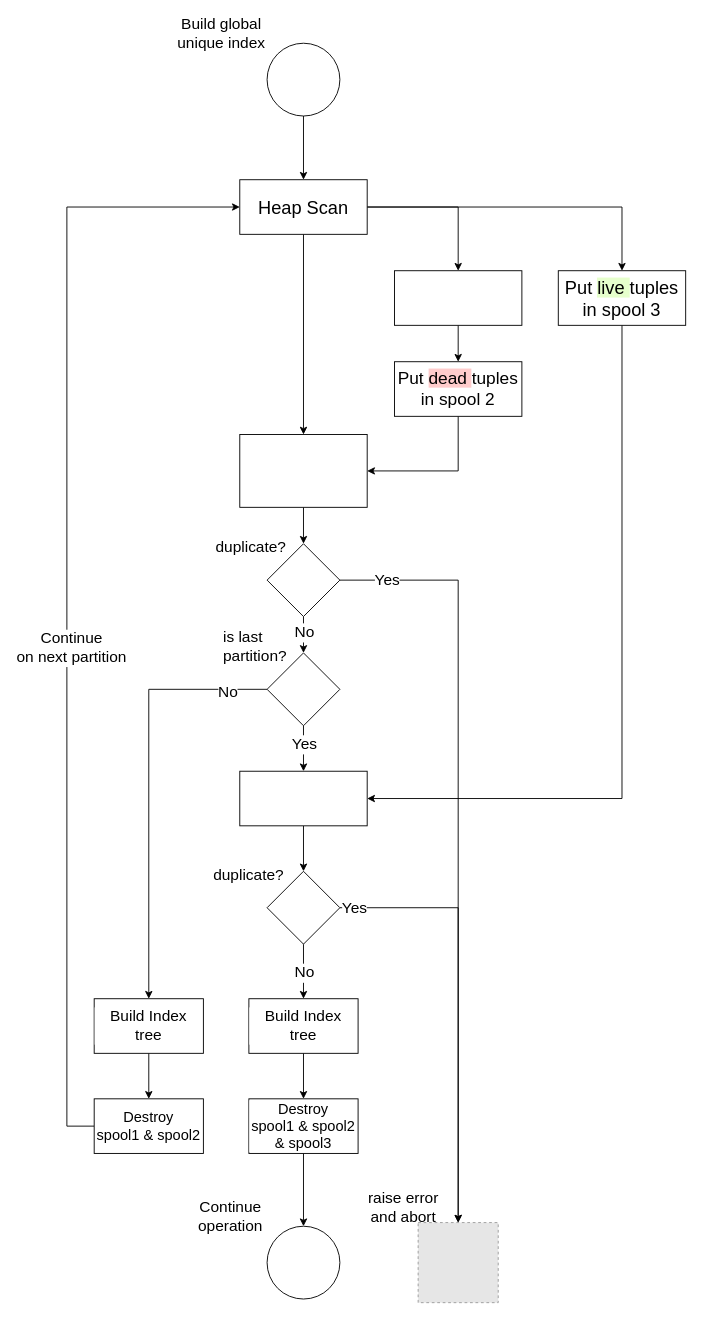
The diagram is 702 pixels wide and 1319 high, and some of its shapes have lost their labels. Grey dashed boxes stand in for pictures. The centre of each missing label's shape, as x and y in pixels:
detect duplicate from sorting spool1 and spool2: the point at 303,470
detect duplicate from sorting spool3: the point at 303,798
Put live tuples in spool 1: the point at 458,297
